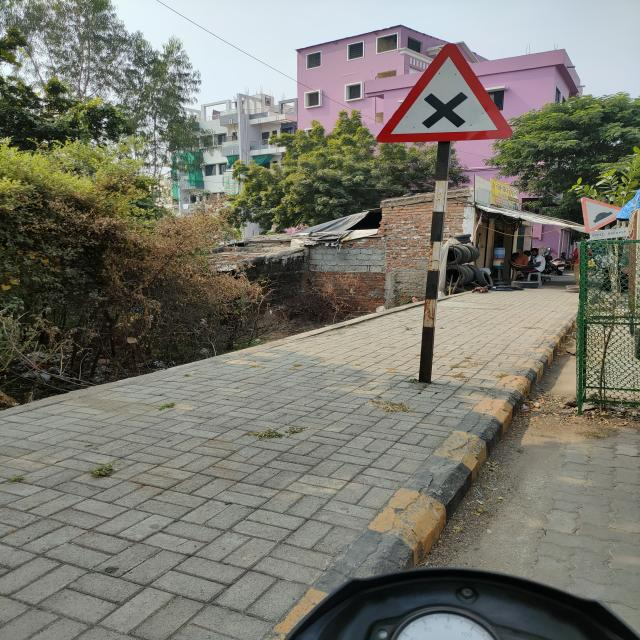CROSS_ROAD: (373, 40, 515, 152)
